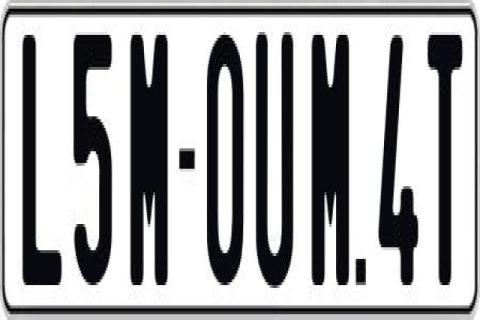0: (378, 26, 422, 294), (205, 35, 247, 294), (72, 35, 112, 299)
L: (20, 29, 60, 297)
M: (308, 32, 349, 282), (129, 32, 167, 282)
T: (428, 26, 464, 294)
U: (255, 29, 295, 291)
